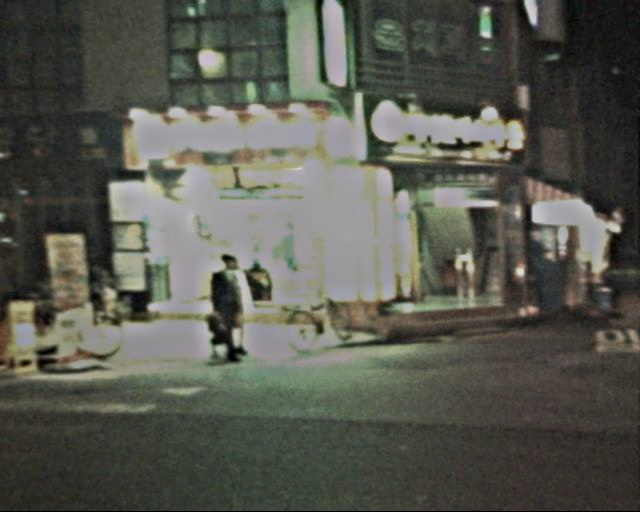person: (194, 248, 251, 363)
